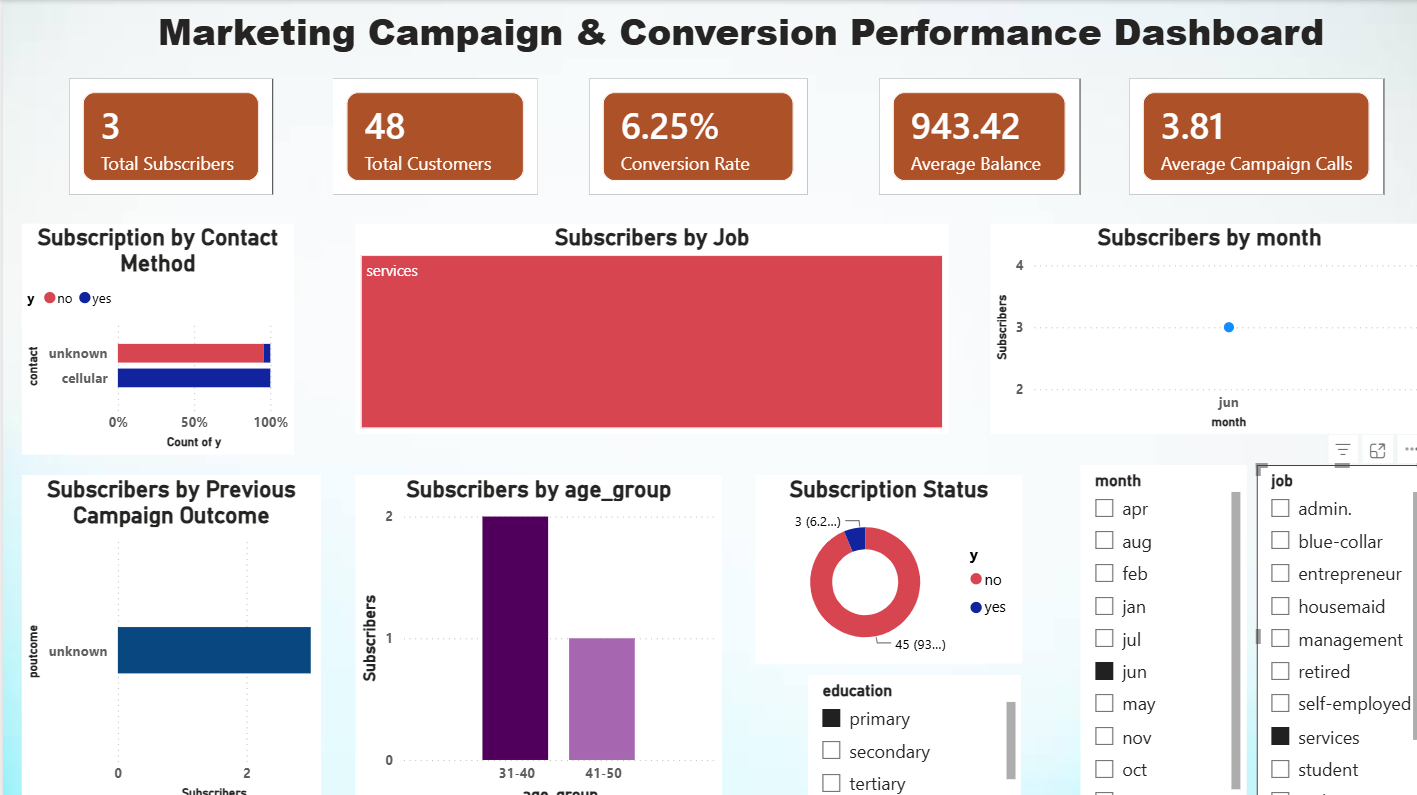

Layout of this report page (visuals, bound fields, positions):
{"tool":"powerbi","page":{"name":"Page 1","canvas":[1280,720],"ordinal":0},"visuals":[{"type":"cardVisual","fields":{"Data":["bank_marketing_cleaned.Total Subscribers"]},"box":[58.8,69.6,181.3,103.3],"z":0},{"type":"cardVisual","fields":{"Data":["bank_marketing_cleaned.Total Customers"]},"box":[294.2,69.6,182.5,103.3],"z":1000},{"type":"cardVisual","fields":{"Data":["bank_marketing_cleaned.Conversion Rate"]},"box":[522.3,69.6,194.5,103.3],"z":2000},{"type":"cardVisual","fields":{"Data":["bank_marketing_cleaned.Average Balance"]},"box":[780.5,69.6,178.9,103.3],"z":3000},{"type":"cardVisual","fields":{"Data":["bank_marketing_cleaned.Average Campaign Calls"]},"box":[1002.6,69.6,226.9,103.3],"z":4000},{"type":"donutChart","title":"Subscription Status","fields":{"Category":["bank_marketing_cleaned.y"],"Y":["CountNonNull(bank_marketing_cleaned.y)"]},"box":[670,422.7,237.7,168.1],"z":5000},{"type":"treemap","title":"Subscribers by Job","fields":{"Group":["bank_marketing_cleaned.job"],"Values":["bank_marketing_cleaned.Subscribers"]},"box":[313.4,199.3,528.3,187.3],"z":5001},{"type":"lineChart","fields":{"Y":["bank_marketing_cleaned.Subscribers"],"Category":["bank_marketing_cleaned.month"]},"box":[878.9,199.3,390.2,187.3],"z":5002},{"type":"hundredPercentStackedBarChart","title":"Subscription by Contact Method","fields":{"Category":["bank_marketing_cleaned.contact"],"Series":["bank_marketing_cleaned.y"],"Y":["CountNonNull(bank_marketing_cleaned.y)"]},"box":[16.8,199.3,242.6,205.3],"z":5003},{"type":"clusteredColumnChart","fields":{"Category":["bank_marketing_cleaned.age_group"],"Y":["bank_marketing_cleaned.Subscribers"]},"box":[313.9,418.6,326.2,297.2],"z":5004},{"type":"clusteredBarChart","title":"Subscribers by Previous Campaign Outcome","fields":{"Category":["bank_marketing_cleaned.poutcome"],"Y":["bank_marketing_cleaned.Subscribers"]},"box":[16.8,422.7,266.6,294.2],"z":5005},{"type":"slicer","fields":{"Values":["bank_marketing_cleaned.month"]},"box":[959.4,414.3,147.7,306.2],"z":5006},{"type":"slicer","fields":{"Values":["bank_marketing_cleaned.job"]},"box":[1116.7,414.3,152.5,306.2],"z":5007},{"type":"slicer","fields":{"Values":["bank_marketing_cleaned.education"]},"box":[716.8,601.6,189.7,118.9],"z":5008},{"type":"textbox","box":[99.7,0,1114.3,69.6],"z":5009}]}

Visuals, with their boxes in screenshot pixels (x1, y1, x2, y2), scaled from the page's 1280x720 canvas onto the 1417x795 screenshot:
cardVisual - bank_marketing_cleaned.Total Subscribers: box(65, 77, 266, 191)
cardVisual - bank_marketing_cleaned.Total Customers: box(326, 77, 528, 191)
cardVisual - bank_marketing_cleaned.Conversion Rate: box(578, 77, 794, 191)
cardVisual - bank_marketing_cleaned.Average Balance: box(864, 77, 1062, 191)
cardVisual - bank_marketing_cleaned.Average Campaign Calls: box(1110, 77, 1361, 191)
"Subscription Status" donutChart: box(742, 467, 1005, 652)
"Subscribers by Job" treemap: box(347, 220, 932, 427)
lineChart - bank_marketing_cleaned.Subscribers x bank_marketing_cleaned.month: box(973, 220, 1405, 427)
"Subscription by Contact Method" hundredPercentStackedBarChart: box(19, 220, 287, 447)
clusteredColumnChart - bank_marketing_cleaned.age_group x bank_marketing_cleaned.Subscribers: box(347, 462, 709, 790)
"Subscribers by Previous Campaign Outcome" clusteredBarChart: box(19, 467, 314, 792)
slicer - bank_marketing_cleaned.month: box(1062, 457, 1226, 794)
slicer - bank_marketing_cleaned.job: box(1236, 457, 1405, 794)
slicer - bank_marketing_cleaned.education: box(794, 664, 1004, 794)
textbox: box(110, 0, 1344, 77)
